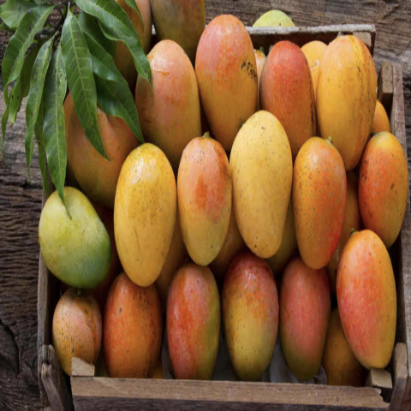mango: (225, 102, 299, 271), (309, 34, 389, 189), (110, 133, 180, 292), (331, 216, 401, 370), (187, 17, 261, 151), (289, 132, 359, 270), (166, 244, 226, 405), (31, 185, 107, 300), (170, 125, 233, 260), (272, 244, 331, 373), (355, 129, 410, 260)
